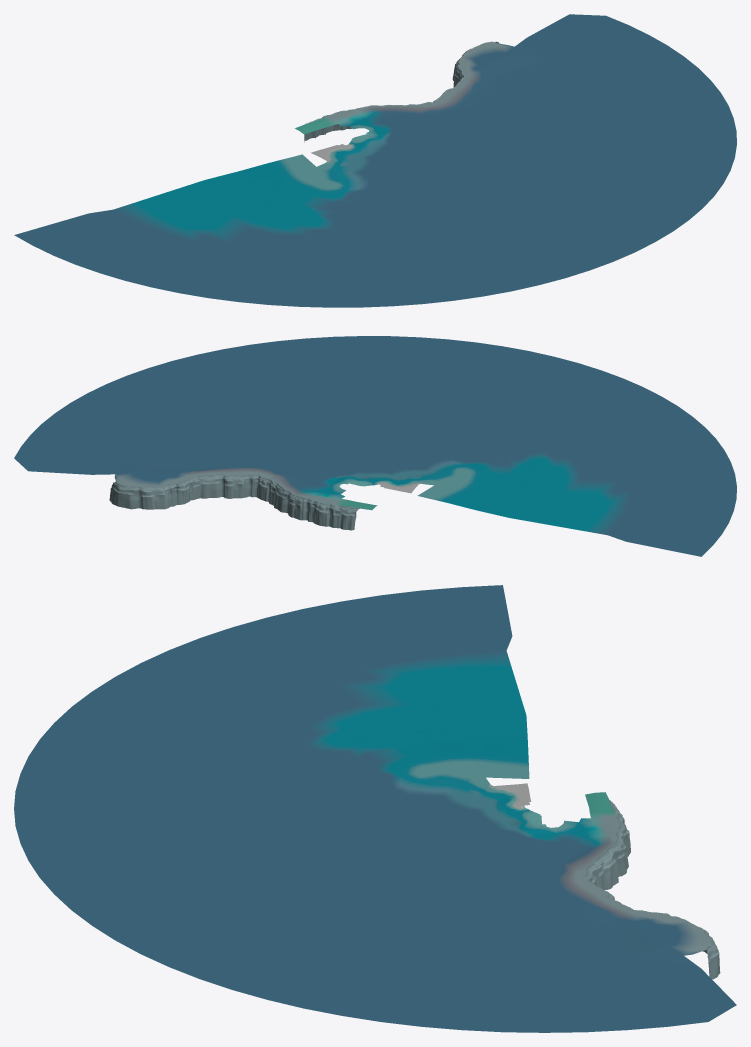
3 views of the same model, one above another, from view 1: azimuth 30°, elevation 25°; view 2: azimuth 150°, elevation 25°; view 3: azimuth 270°, elevation 25° (orthographic). The views are drawn at different scales.
Parts seen in each view (by area): view 1: G:\FFXIV-MapTools\exports\y6t1\bg\ex5\02_ykt_y6\twn\y6t1\bgp (×3); view 2: G:\FFXIV-MapTools\exports\y6t1\bg\ex5\02_ykt_y6\twn\y6t1\bgp (×3); view 3: G:\FFXIV-MapTools\exports\y6t1\bg\ex5\02_ykt_y6\twn\y6t1\bgp (×3).
Part boxes in pixels (left/top/right/bottom): G:\FFXIV-MapTools\exports\y6t1\bg\ex5\02_ykt_y6\twn\y6t1\bgp (×3): left=14, top=14, right=736, bottom=307; G:\FFXIV-MapTools\exports\y6t1\bg\ex5\02_ykt_y6\twn\y6t1\bgp (×3): left=14, top=336, right=736, bottom=556; G:\FFXIV-MapTools\exports\y6t1\bg\ex5\02_ykt_y6\twn\y6t1\bgp (×3): left=14, top=585, right=736, bottom=1032.
Size of the model in its own units: 8460 by 255 by 5772.
